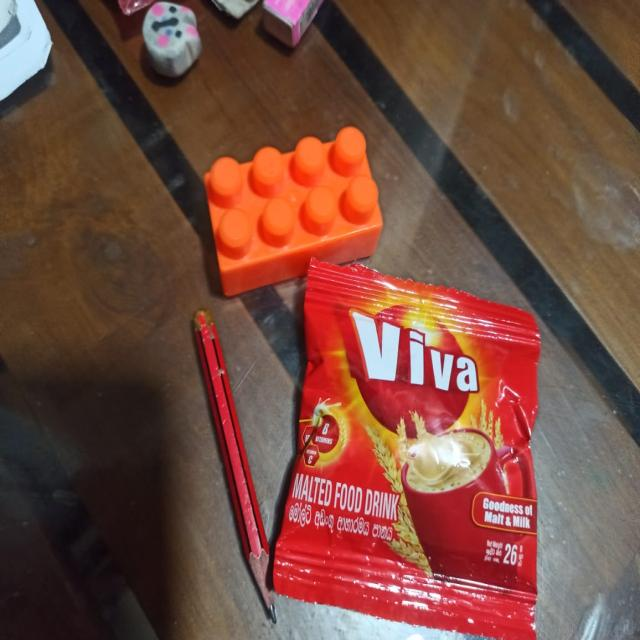Viva Malt: (293, 240, 558, 638)
